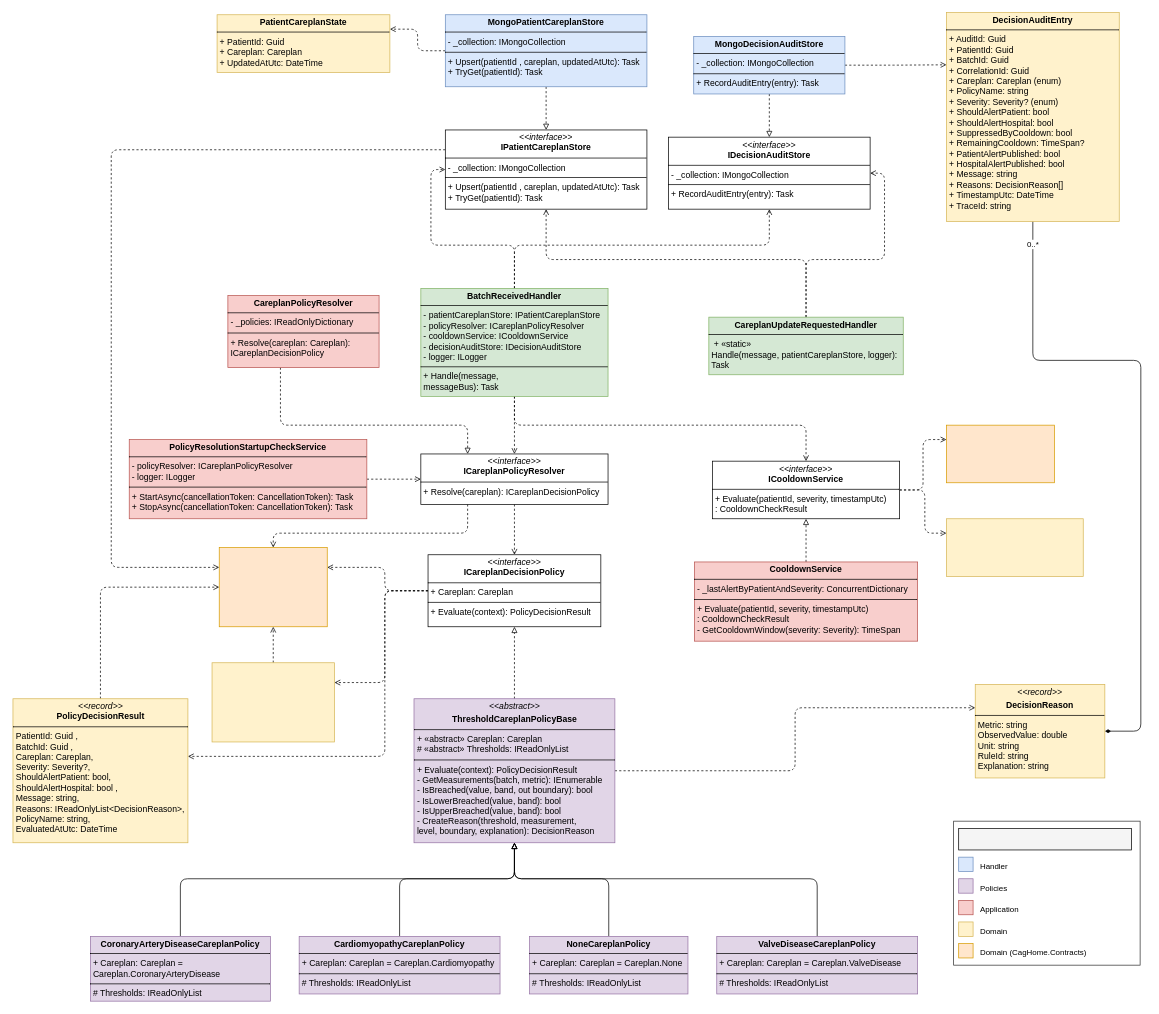
Image size: 1159x1014. Some labels were removed from this diagram. Here are the shapes that lost their labels. From the top down, the box of each, then its label:
(946, 424, 1054, 483): <<enum>> Severity Warning Critical
(946, 518, 1083, 576): <<record>> CooldownCheckResult IsSupressed: bool RemainingCoolDown: TimeSpan?
(219, 547, 327, 627): <<enum>> Careplan None CoronaryArteryDisease ValveDisease Cardiomyopathy
(211, 662, 334, 742): <<record>> BatchEvaluationContext Batch: BatchReceived Careplan: Careplan
(958, 828, 1131, 850): Legend
